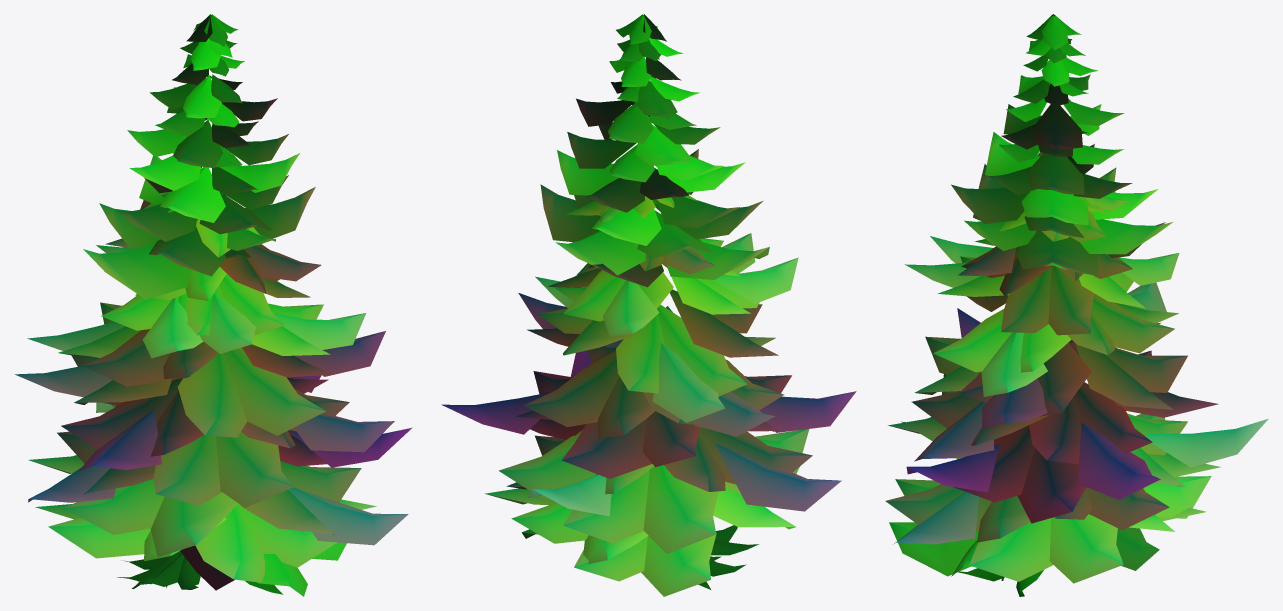
The model's file is SpruceLeaves.fbx.
3 renders of one model, left to right at view 1: azimuth 30°, elevation 25°; view 2: azimuth 150°, elevation 25°; view 3: azimuth 270°, elevation 25°, orthographic.
Visible parts, largest first — view 1: tree.001; view 2: tree.001; view 3: tree.001.
Boxes of the visible parts, box(x1,y1,x2,y2) form: tree.001: box(15, 14, 412, 596); tree.001: box(441, 14, 856, 596); tree.001: box(885, 14, 1268, 596).
Size of the model in its own units: 4433 by 6873 by 4309.
